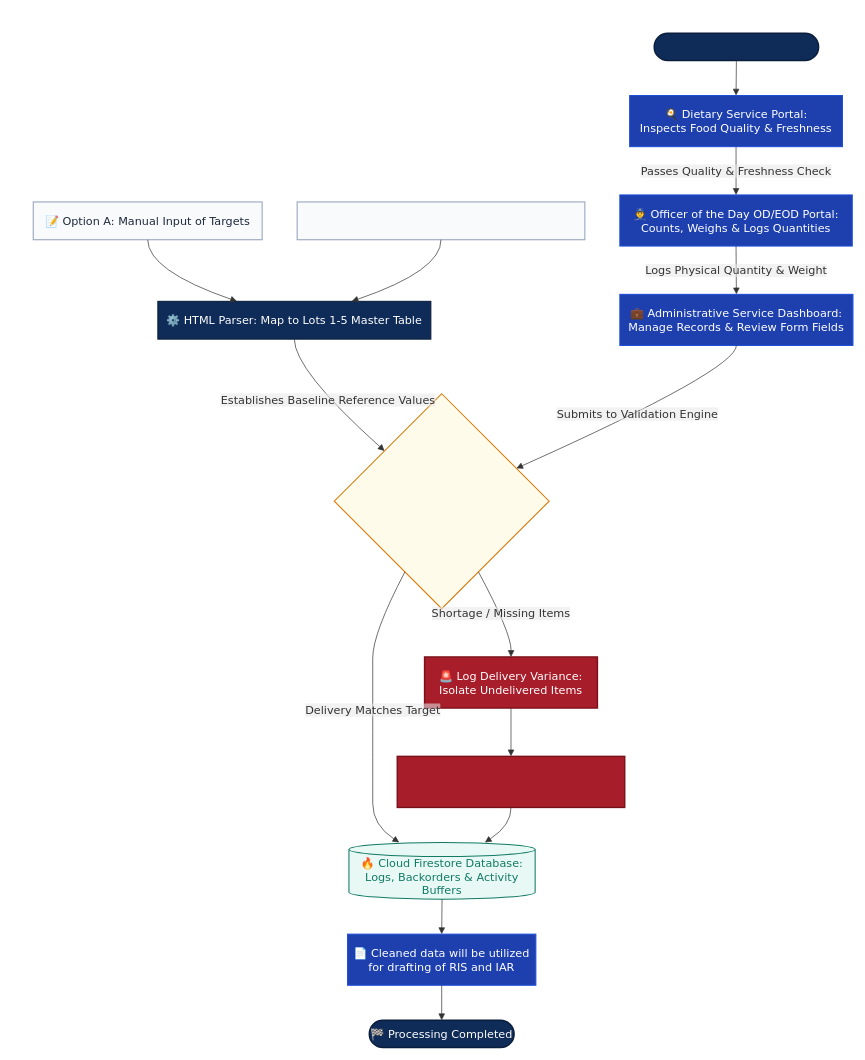
The diagram is 865 pixels wide and 1060 high, and some of its shapes have lost their labels. Each missing label, with the centre of its shape:
Do actual delivery counts match approved targets?: [441,501]
📊 Option B: Paste Approved Excel Market Order: [440,220]
📌 Save Pending Fulfillment Request for Next Delivery Cycle: [510,781]
🚚 Supplier Arrives at Center: [736,46]
